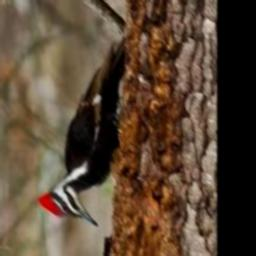Woodpecker: (39, 38, 126, 226)
